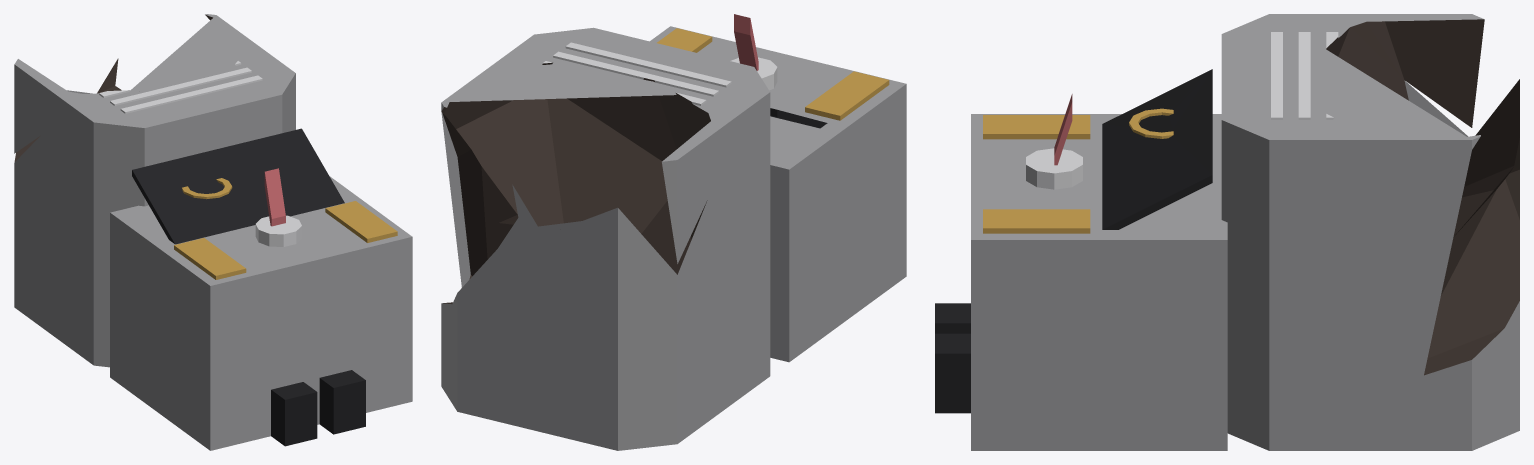
File: vge_d_pilotcockpit.obj
3 renders of one model, left to right at view 1: azimuth 30°, elevation 25°; view 2: azimuth 150°, elevation 25°; view 3: azimuth 270°, elevation 25°, orthographic. The views are drawn at different scales.
Parts seen in each view (by area): view 1: vge_d_pilotcockpit; view 2: vge_d_pilotcockpit; view 3: vge_d_pilotcockpit.
Boxes of the visible parts, bbox=[...] form: vge_d_pilotcockpit: bbox=[14, 14, 412, 450]; vge_d_pilotcockpit: bbox=[441, 14, 906, 450]; vge_d_pilotcockpit: bbox=[935, 14, 1519, 450].
Size of the model in its own units: 1 by 1.16 by 1.96.
